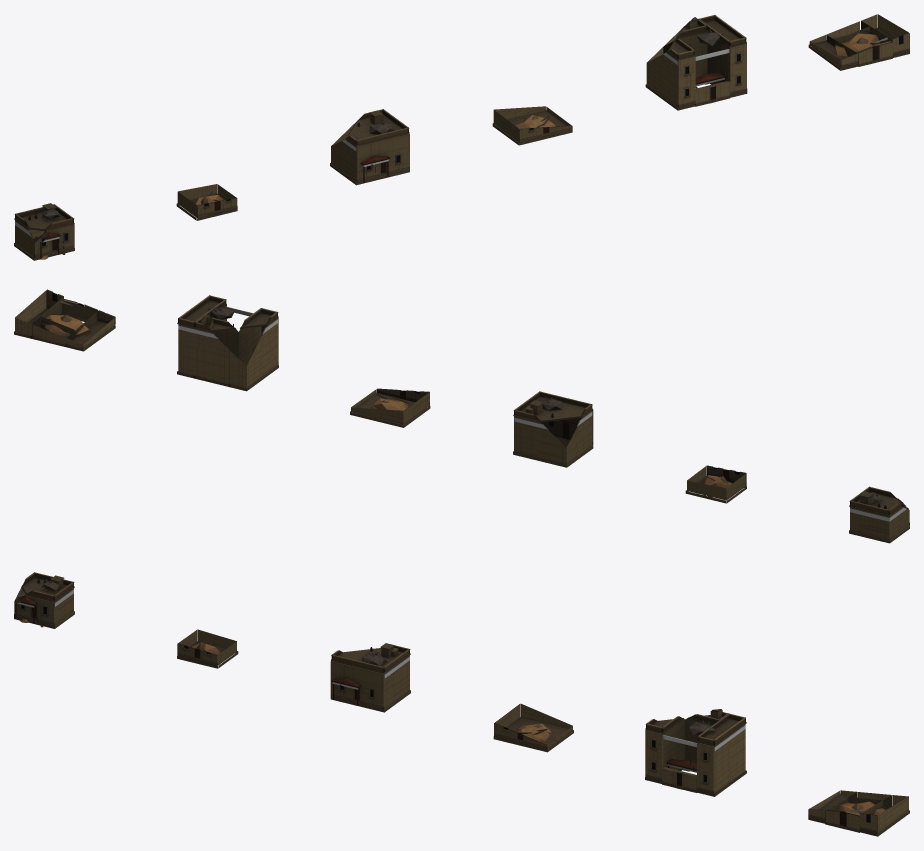
The model's file is classical-steppe-houses-damage.glb.
3 renders of one model, top to bottom at view 1: azimuth 30°, elevation 25°; view 2: azimuth 150°, elevation 25°; view 3: azimuth 330°, elevation 25°, orthographic.
Parts seen in each view (by area): view 1: LOD0.004, LOD0.002, LOD0.005, LOD0, LOD0.003, LOD0.001; view 2: LOD0.004, LOD0.002, LOD0.005, LOD0, LOD0.003, LOD0.001; view 3: LOD0.004, LOD0.002, LOD0.005, LOD0, LOD0.003, LOD0.001.
Boxes of the visible parts, x1=… form: LOD0.004: x1=645, y1=15, x2=747, y2=110; LOD0.002: x1=330, y1=109, x2=409, y2=185; LOD0.005: x1=808, y1=14, x2=909, y2=70; LOD0: x1=14, y1=203, x2=74, y2=260; LOD0.003: x1=492, y1=106, x2=572, y2=145; LOD0.001: x1=176, y1=184, x2=237, y2=220; LOD0.004: x1=177, y1=295, x2=278, y2=391; LOD0.002: x1=513, y1=391, x2=593, y2=467; LOD0.005: x1=14, y1=289, x2=115, y2=351; LOD0: x1=849, y1=486, x2=909, y2=543; LOD0.003: x1=350, y1=388, x2=430, y2=427; LOD0.001: x1=685, y1=465, x2=746, y2=503; LOD0.004: x1=645, y1=709, x2=746, y2=796; LOD0.002: x1=330, y1=643, x2=410, y2=712; LOD0.005: x1=808, y1=790, x2=909, y2=836; LOD0: x1=14, y1=572, x2=74, y2=628; LOD0.003: x1=493, y1=703, x2=573, y2=752; LOD0.001: x1=177, y1=629, x2=238, y2=668.
Size of what is drawn, in the model's own units: 16.02 by 1.08 by 1.05.
Materials: 2 (2 with a texture image).
